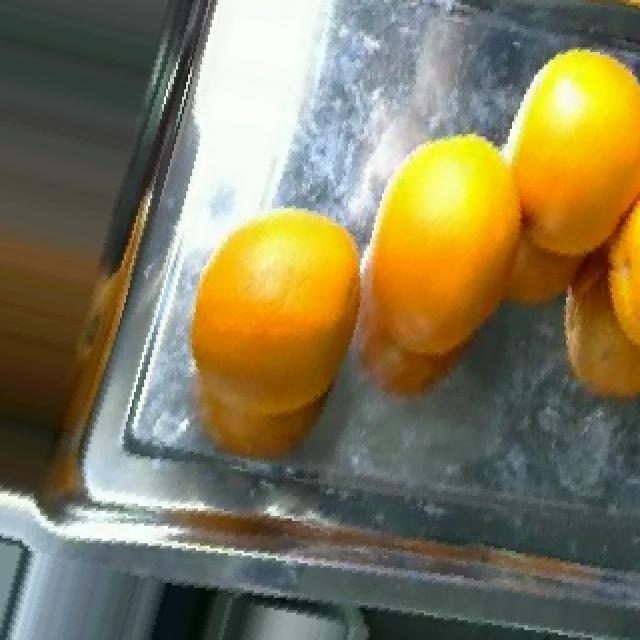Fruit: (496, 28, 640, 228), (132, 565, 282, 640)
